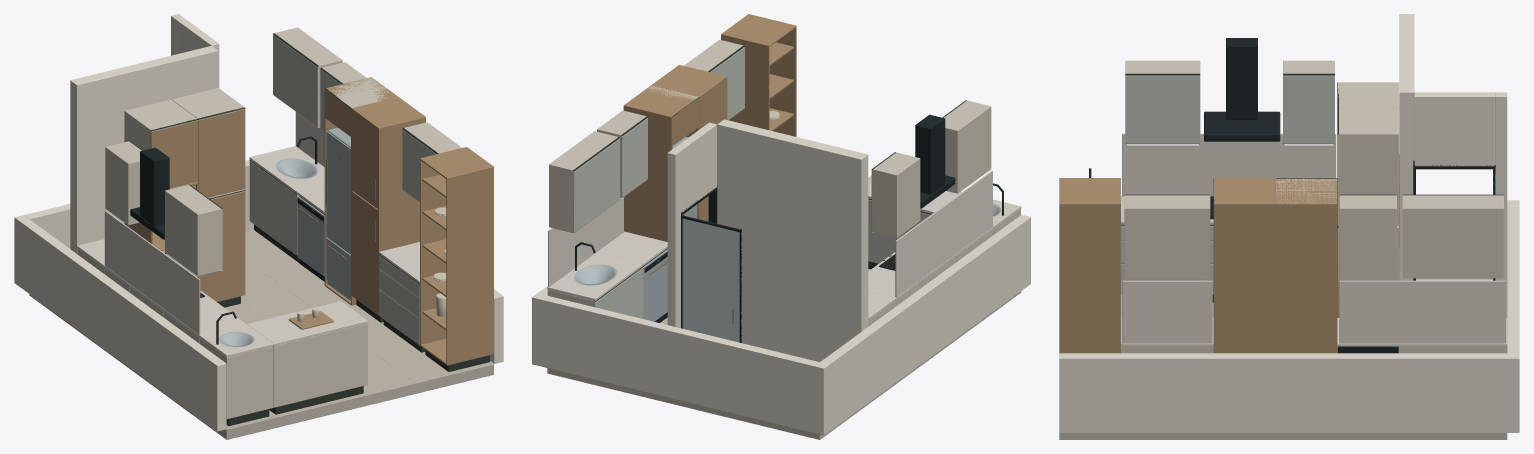
The model's file is user_sketch_kitchen-ca3b721c4747.glb.
3 renders of one model, left to right at view 1: azimuth 30°, elevation 25°; view 2: azimuth 150°, elevation 25°; view 3: azimuth 270°, elevation 25°, orthographic. The views are drawn at different scales.
Parts seen in each view (by area): view 1: Surface 14, Surface 3, Surface 7, Surface 2, Surface 1, Surface 9, Surface 10, Surface 8, Surface 4, Surface 13; view 2: Surface 3, Surface 14, Surface 2, Surface 7, Surface 9, Surface 5, Surface 4, Surface 10, Surface 1, Surface 8; view 3: Surface 3, Surface 14, Surface 7, Surface 2, Surface 9, Surface 4, Surface 1, Surface 8.
Boxes of the visible parts, bbox=[...] form: Surface 14: bbox=[124, 77, 493, 365]; Surface 3: bbox=[14, 14, 503, 431]; Surface 7: bbox=[77, 27, 462, 419]; Surface 2: bbox=[77, 112, 419, 357]; Surface 1: bbox=[29, 230, 493, 439]; Surface 9: bbox=[104, 35, 435, 407]; Surface 10: bbox=[219, 127, 350, 347]; Surface 8: bbox=[104, 33, 489, 426]; Surface 4: bbox=[130, 136, 339, 344]; Surface 13: bbox=[153, 207, 446, 321]; Surface 3: bbox=[532, 119, 1030, 435]; Surface 14: bbox=[623, 14, 796, 241]; Surface 2: bbox=[547, 170, 1021, 320]; Surface 7: bbox=[547, 39, 1020, 326]; Surface 9: bbox=[573, 47, 930, 318]; Surface 5: bbox=[682, 218, 741, 342]; Surface 4: bbox=[575, 114, 1003, 342]; Surface 10: bbox=[574, 137, 1001, 321]; Surface 1: bbox=[547, 269, 1021, 439]; Surface 8: bbox=[573, 45, 966, 301]; Surface 3: bbox=[1059, 14, 1519, 432]; Surface 14: bbox=[1059, 135, 1399, 353]; Surface 7: bbox=[1121, 60, 1507, 353]; Surface 2: bbox=[1121, 133, 1507, 346]; Surface 9: bbox=[1121, 76, 1334, 294]; Surface 4: bbox=[1089, 38, 1495, 353]; Surface 1: bbox=[1059, 280, 1507, 439]; Surface 8: bbox=[1121, 73, 1503, 302].
Size of the model in its own units: 3.64 by 2.98 by 4.47.
